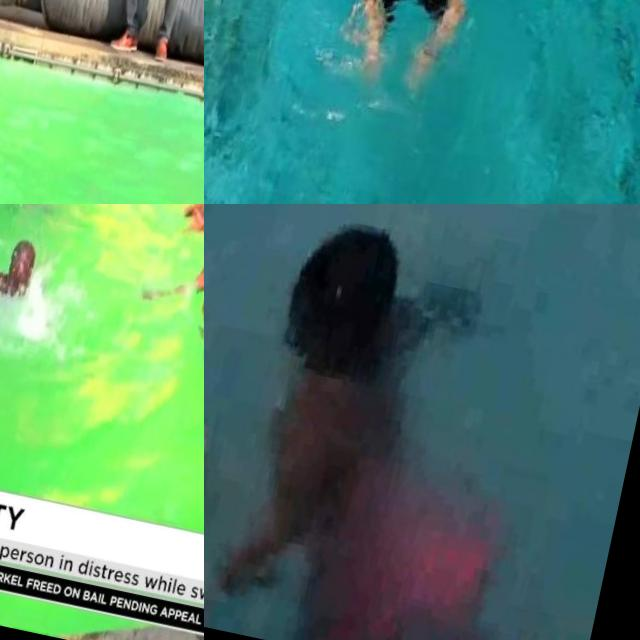drowning: (215, 233, 510, 635), (0, 225, 58, 342)
out of water: (96, 0, 204, 82)
swimming: (339, 0, 498, 103), (179, 204, 204, 363), (178, 204, 204, 240)
